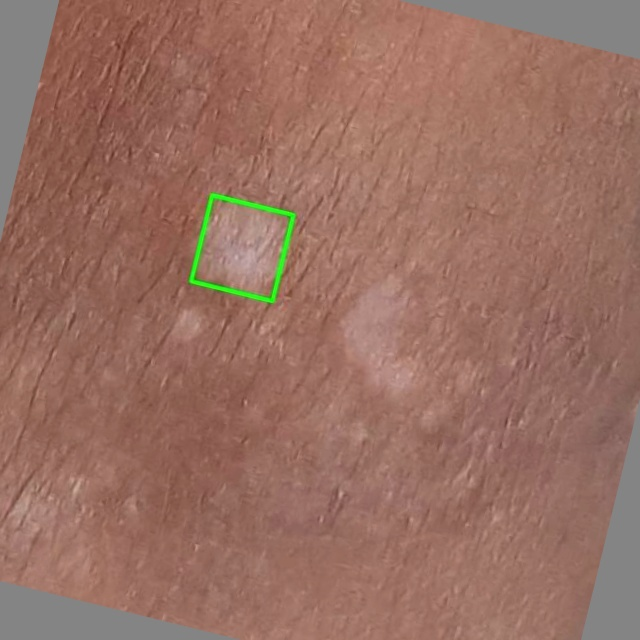Eczema: (191, 195, 293, 301)
